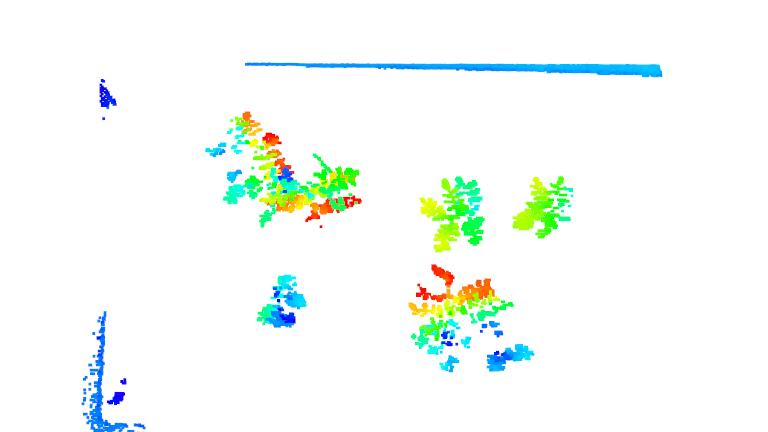chickpea: (206, 112, 296, 227), (402, 264, 509, 352), (419, 176, 487, 252), (277, 162, 361, 223), (508, 174, 576, 240), (254, 273, 307, 329), (481, 344, 540, 373)
